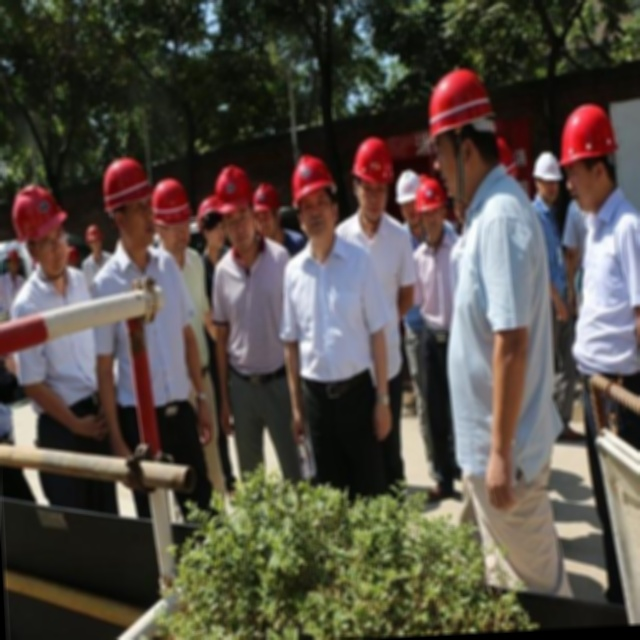Con_Casco: (292, 152, 341, 243), (213, 163, 257, 254)
Sin_Chaleco: (437, 173, 559, 449), (280, 239, 386, 395)
